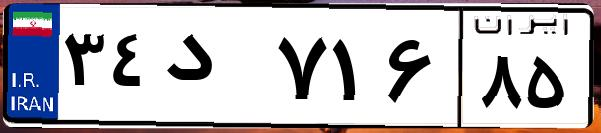1: (330, 28, 385, 110)
3: (57, 26, 110, 100)
4: (110, 28, 158, 98)
5: (525, 38, 570, 115)
6: (385, 28, 445, 110)
7: (270, 28, 330, 110)
8: (475, 38, 525, 113)
د: (158, 20, 270, 120)
